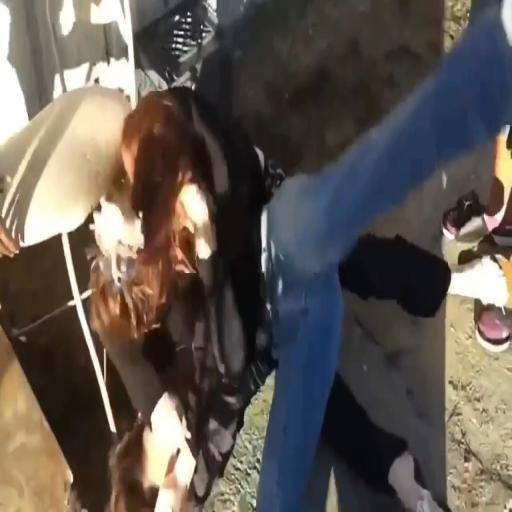violencia: (0, 47, 512, 512)
